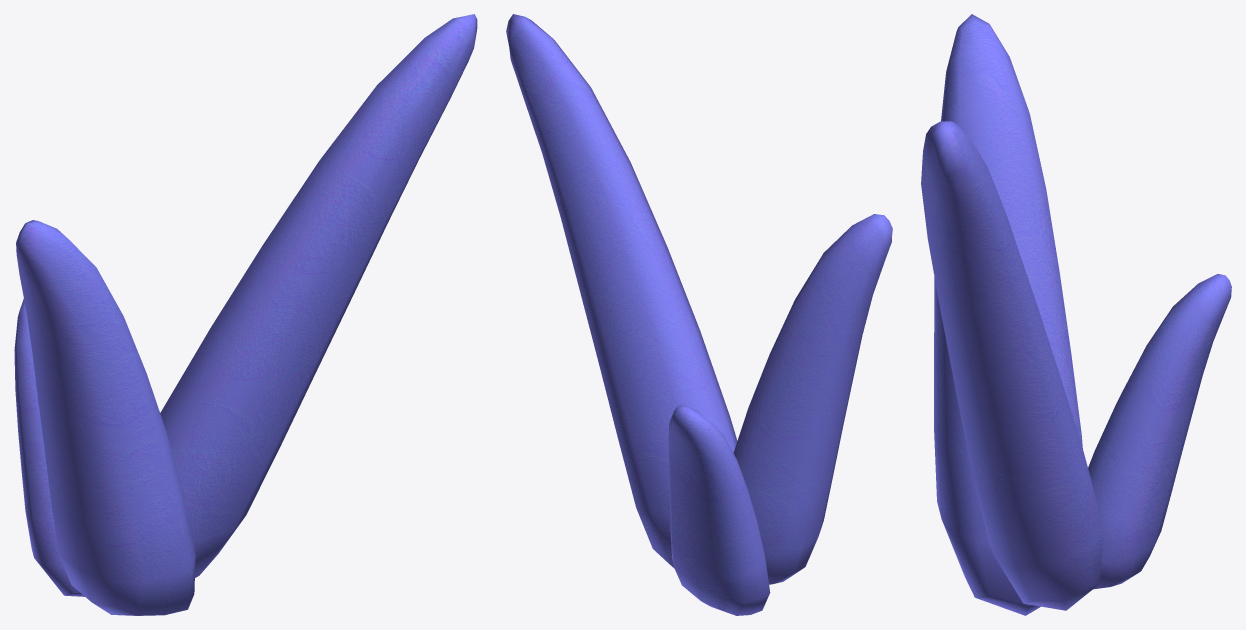
The model's file is pasto  3 hojas uv.fbx.
3 views of the same model, side by side, from view 1: azimuth 30°, elevation 25°; view 2: azimuth 150°, elevation 25°; view 3: azimuth 270°, elevation 25° (orthographic). The views are drawn at different scales.
Visible parts, largest first — view 1: pasto 3 hojas; view 2: pasto 3 hojas; view 3: pasto 3 hojas.
Part boxes in pixels (left/top/right/bottom): pasto 3 hojas: left=14, top=14, right=477, bottom=615; pasto 3 hojas: left=506, top=14, right=892, bottom=615; pasto 3 hojas: left=921, top=14, right=1231, bottom=615.
Bounding box in the file's own units: 363 × 432 × 189.
